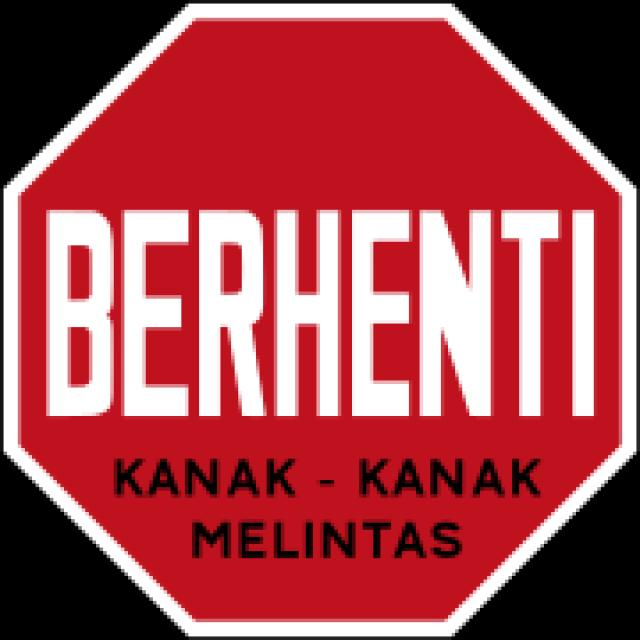Traffic sign: (23, 70, 632, 604)
